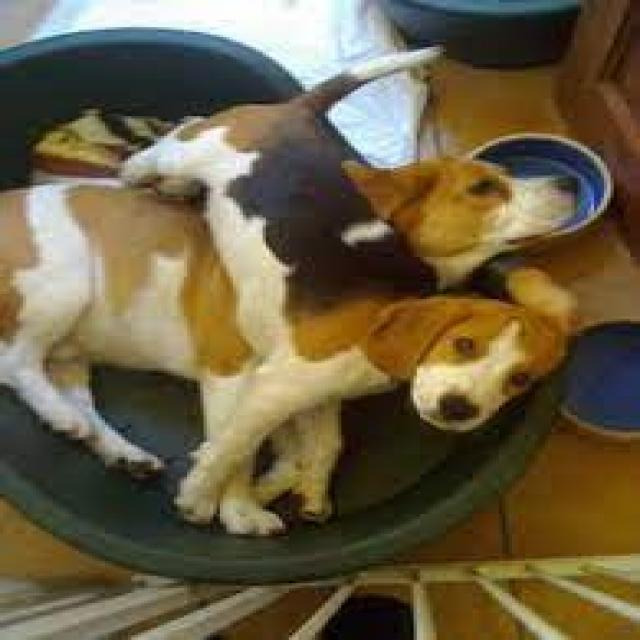Dog: (304, 283, 594, 455), (353, 139, 584, 281)
